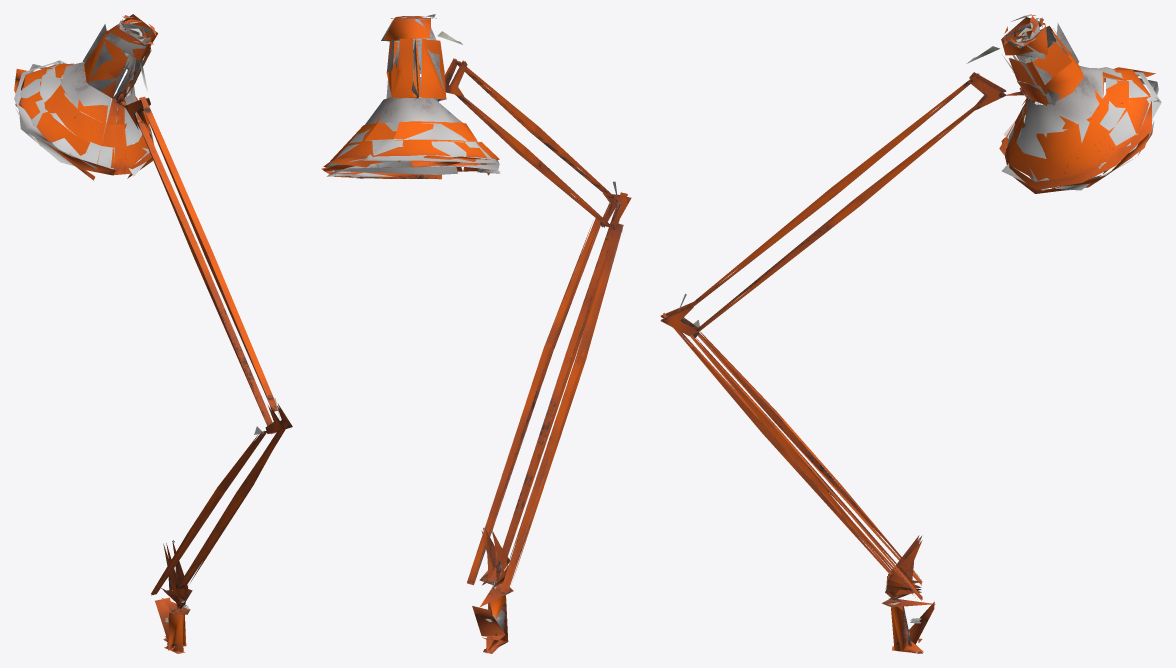
Rendered from desk_lamp.glb.
The picture shows the model from 3 angles, left to right: view 1: azimuth 30°, elevation 25°; view 2: azimuth 150°, elevation 25°; view 3: azimuth 270°, elevation 25°; orthographic projection. The views are drawn at different scales.
Visible parts, largest first — view 1: desk_lamp_arm_01; view 2: desk_lamp_arm_01; view 3: desk_lamp_arm_01.
Boxes of the visible parts, x1=… form: desk_lamp_arm_01: x1=14, y1=14, x2=292, y2=653; desk_lamp_arm_01: x1=321, y1=14, x2=631, y2=653; desk_lamp_arm_01: x1=660, y1=14, x2=1161, y2=653.
Bounding box in the file's own units: 0.2111 × 0.8675 × 0.6161.
2 materials, 2 textured.
